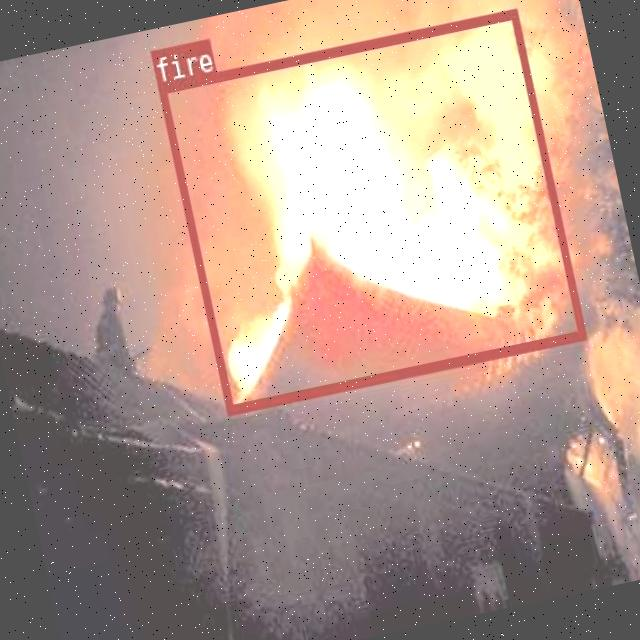fire: (156, 6, 585, 414)
